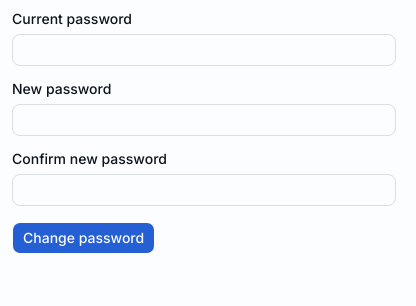
Scenario: PasswordForm › clears the fields once the change went through
Type "old-password" into the password field labelled "Current password" at (204, 50), box 12,34 -> 396,66
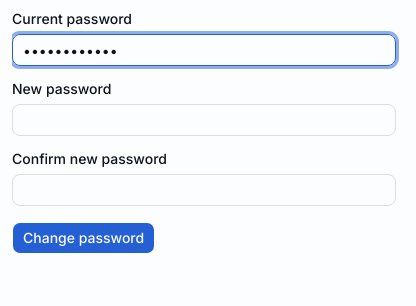
Type "new-password" into the password field labelled "New password" at (204, 120), box 12,104 -> 396,136
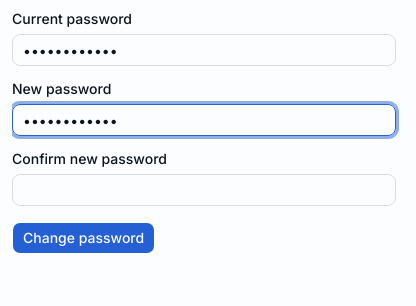
Type "new-password" into the password field labelled "Confirm new password" at (204, 190), box 12,174 -> 396,206
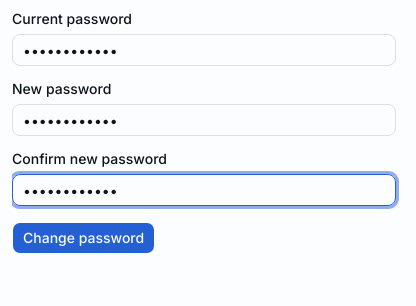
Click the button "Change password" at (84, 238), box 12,222 -> 155,254
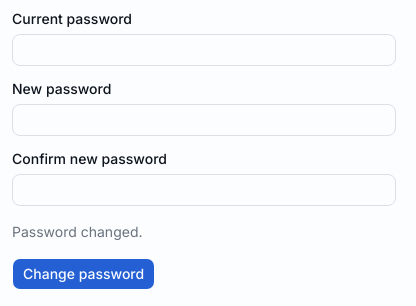
Check: the message reads "Password changed.", box 12,223 -> 142,240
Check: the password field labelled "Current password" is empty, box 12,34 -> 396,66
